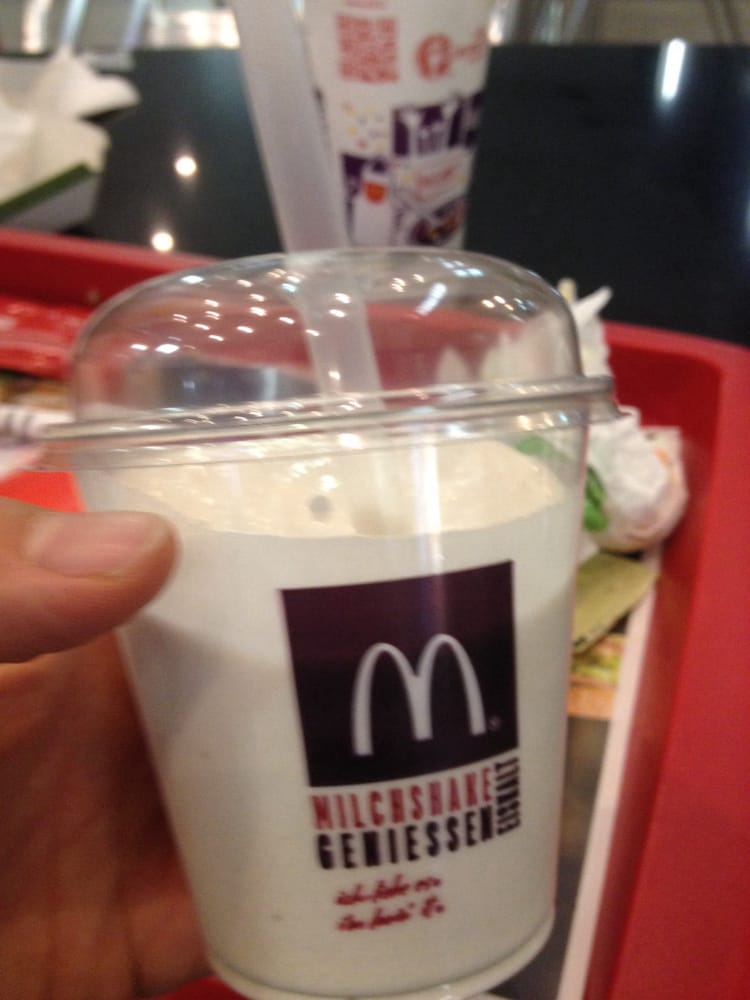mcdonalds: (347, 629, 496, 772)
